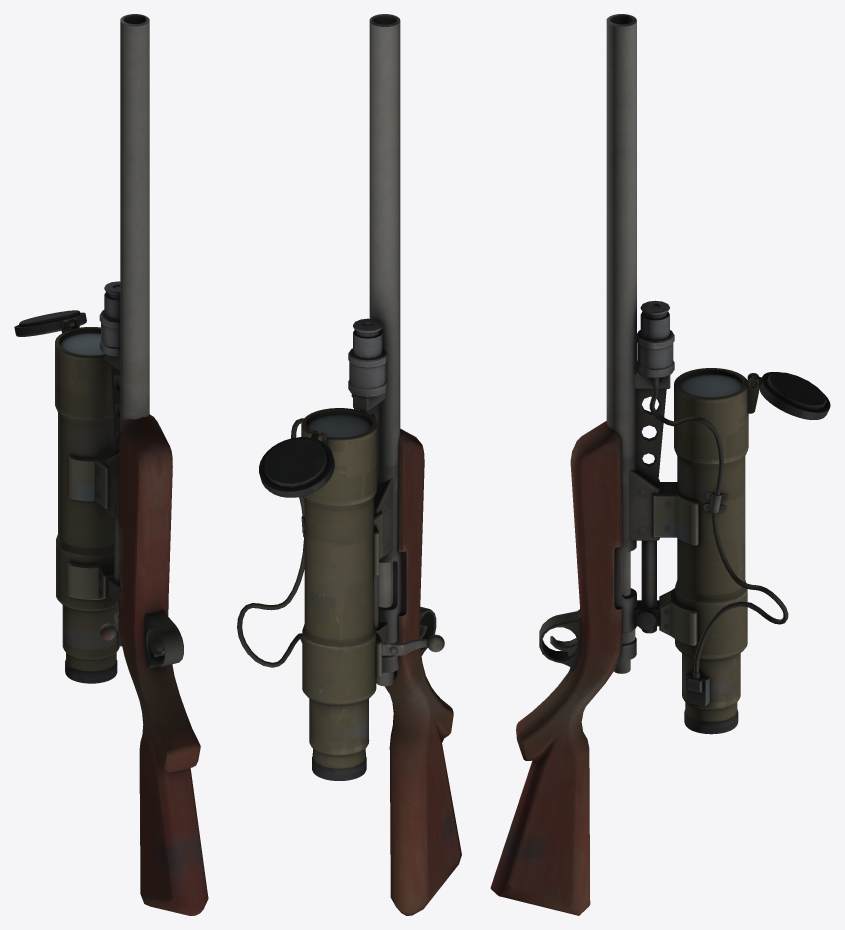
The model's file is c_sniperrifle.glb.
The picture shows the model from 3 angles, left to right: view 1: azimuth 30°, elevation 25°; view 2: azimuth 150°, elevation 25°; view 3: azimuth 270°, elevation 25°; orthographic projection. The views are drawn at different scales.
Visible parts, largest first — view 1: c_sniperrifle; view 2: c_sniperrifle; view 3: c_sniperrifle.
Boxes of the visible parts, box(x1,y1,x2,y2) form: c_sniperrifle: box(14, 14, 208, 915); c_sniperrifle: box(237, 14, 461, 915); c_sniperrifle: box(490, 14, 830, 915).
Bounding box in the file's own units: 8.4 × 63.48 × 21.86.
Materials: 1 (1 with a texture image).
